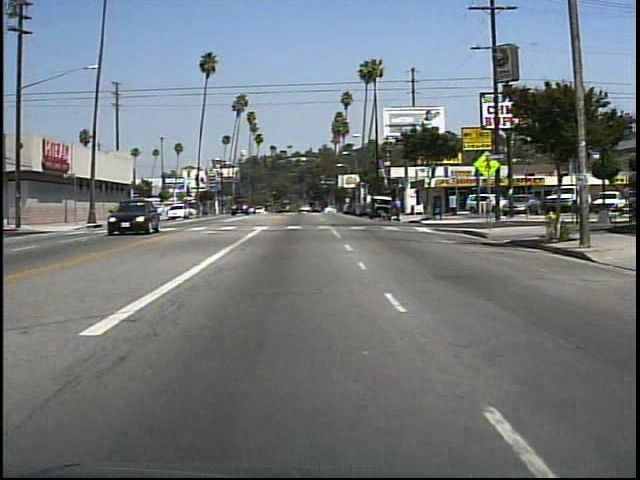person: (392, 194, 406, 225), (115, 198, 128, 224), (376, 207, 393, 226)
